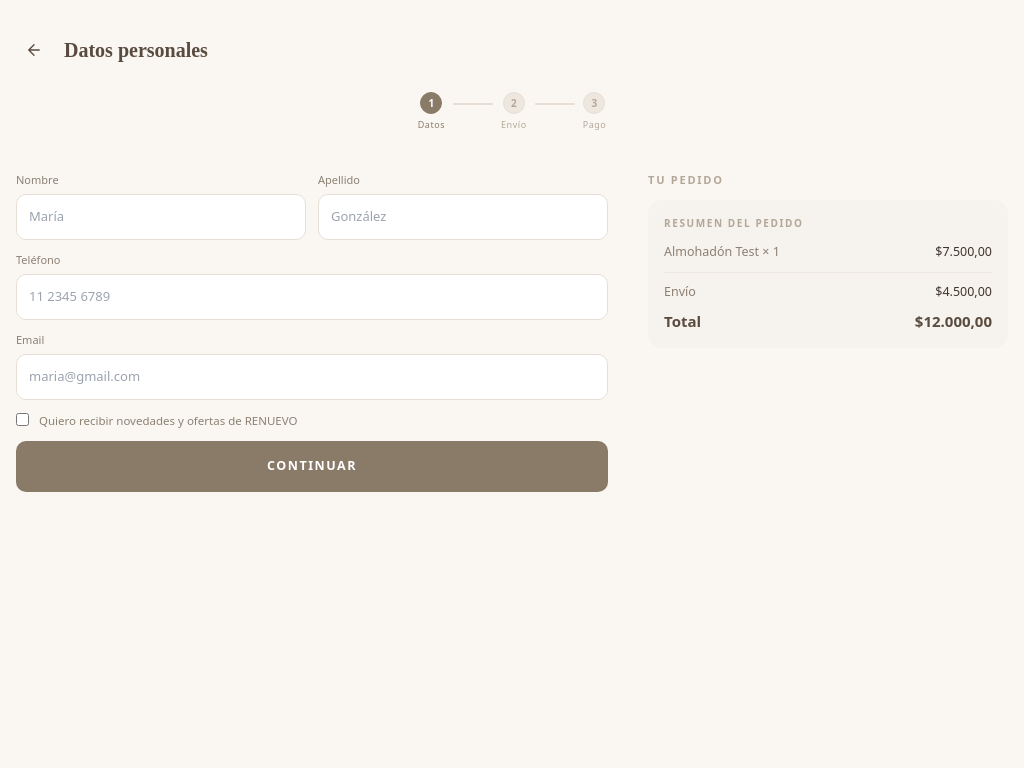
Test: CheckoutPage › avanza al paso 2 y muestra los campos de envío
This screenshot has width=1024, height=768.
Step 1. Type "Ana" into the field labelled "Nombre" → (161, 217), box left=16, top=194, right=306, bottom=240
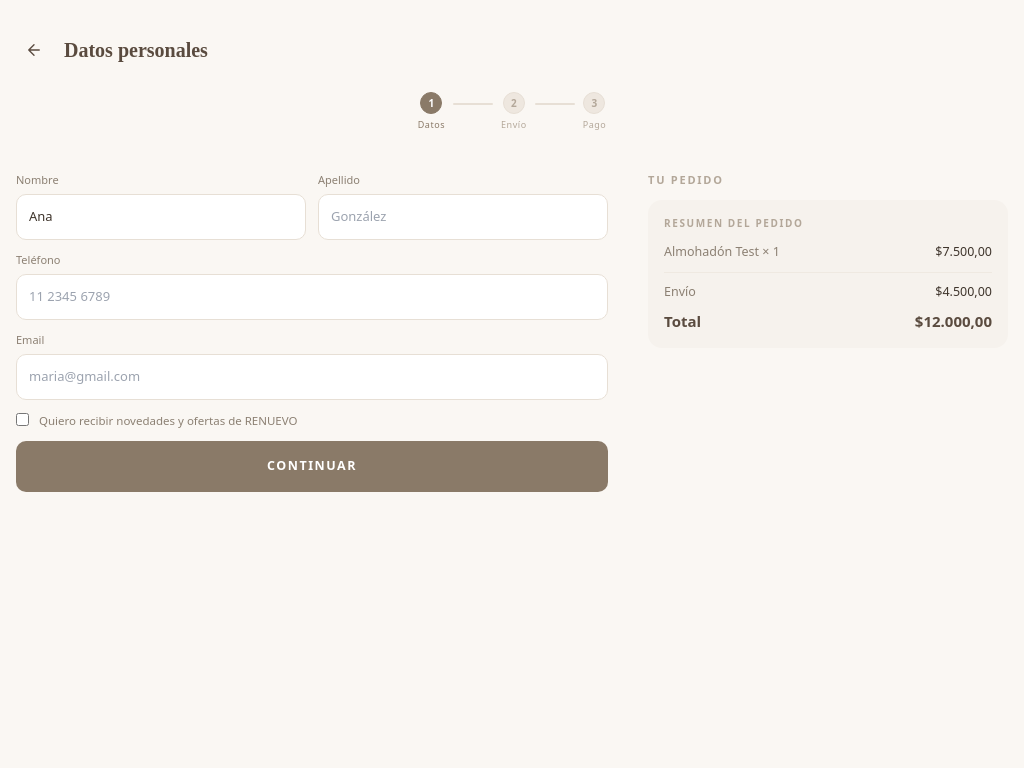
Step 2. Type "García" into the field labelled "Apellido" → (463, 217), box left=318, top=194, right=608, bottom=240
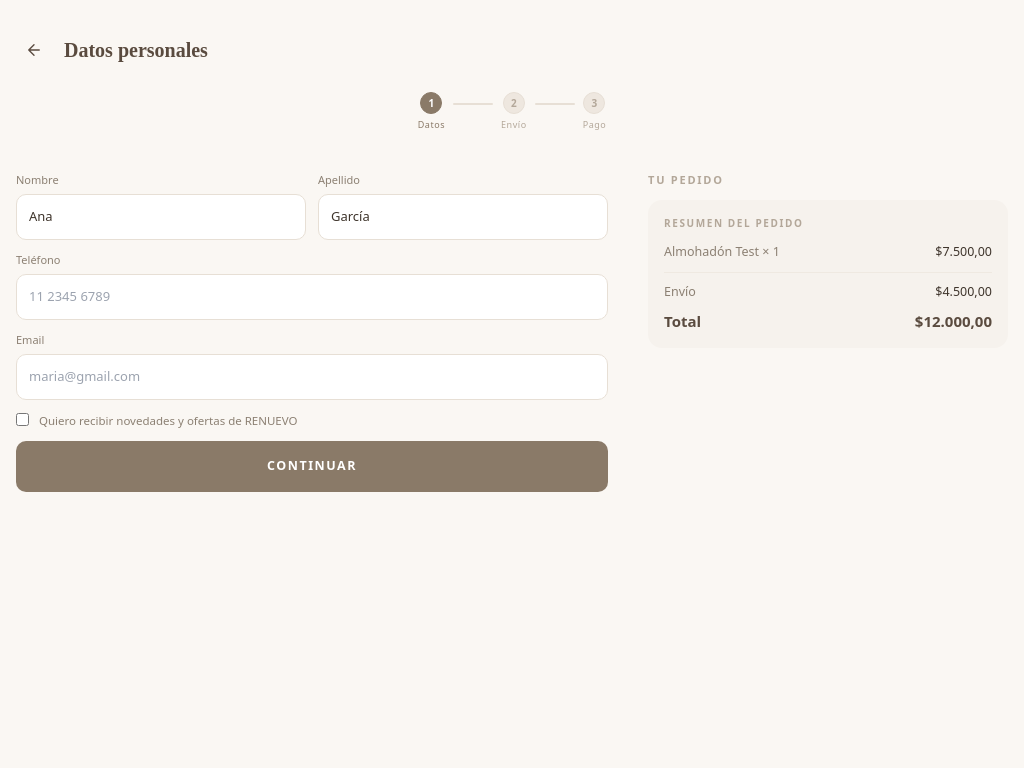
Step 3. Type "5491100000000" into the field labelled "Teléfono" → (312, 297), box left=16, top=274, right=608, bottom=320
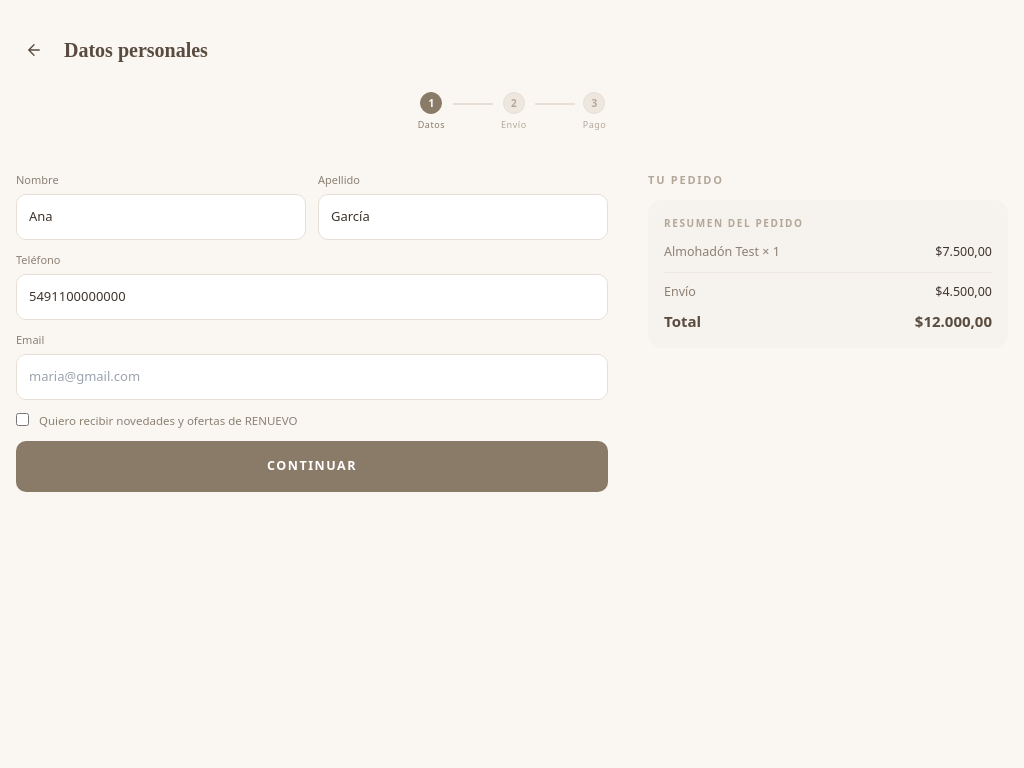
Step 4. Type "ana@test.com" into the field labelled "Email" → (312, 377), box left=16, top=354, right=608, bottom=400
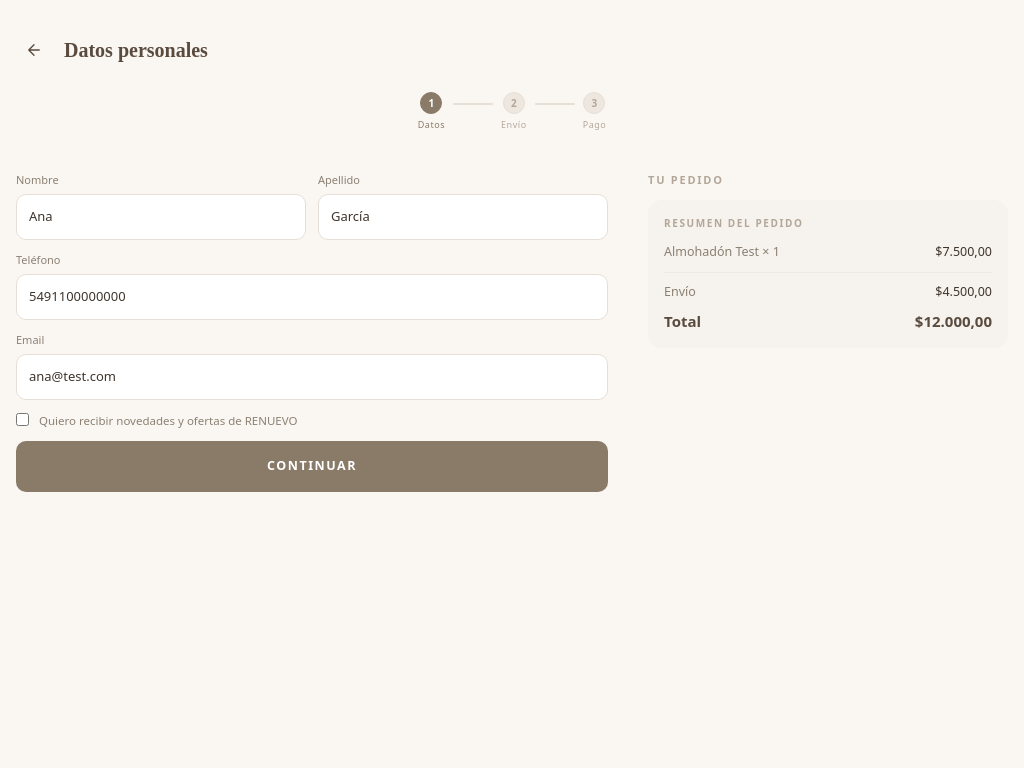
Step 5. Click the button "Continuar" → (312, 466), box left=16, top=441, right=608, bottom=492
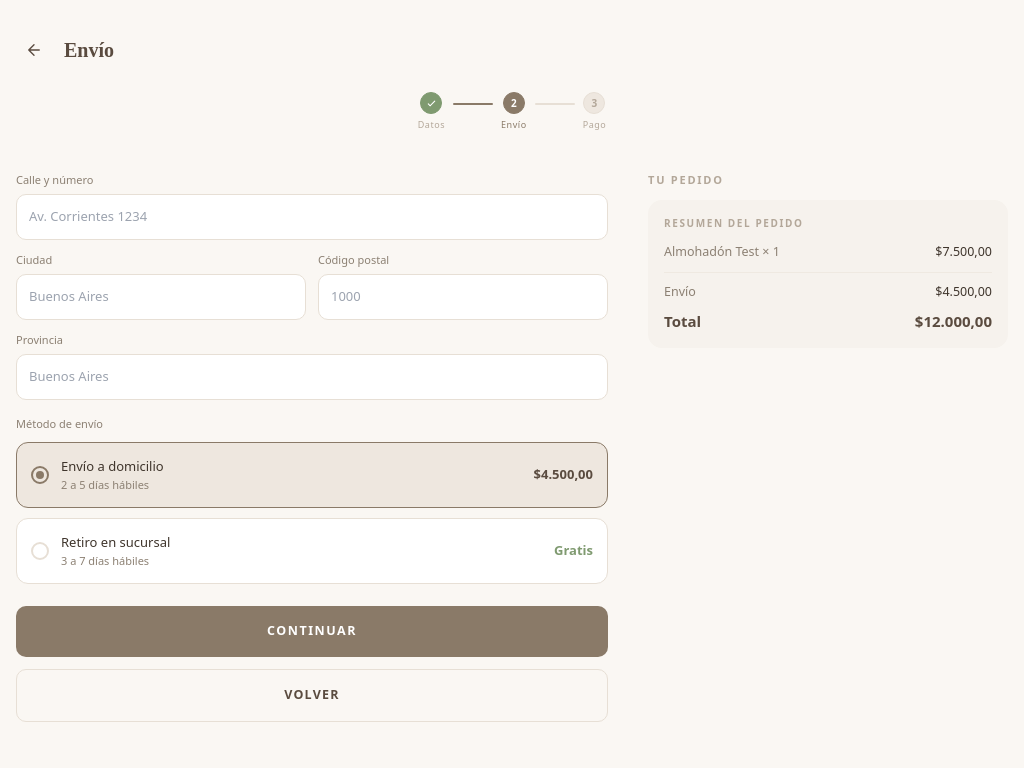
Check: the field labelled "Calle y número" is shown, box left=16, top=194, right=608, bottom=240
Check: the field labelled "Ciudad" is shown, box left=16, top=274, right=306, bottom=320
Check: the field labelled "Provincia" is shown, box left=16, top=354, right=608, bottom=400
